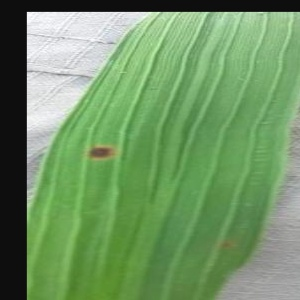Bacterial_Leaf_Blight: (82, 136, 126, 167), (217, 236, 239, 253)
